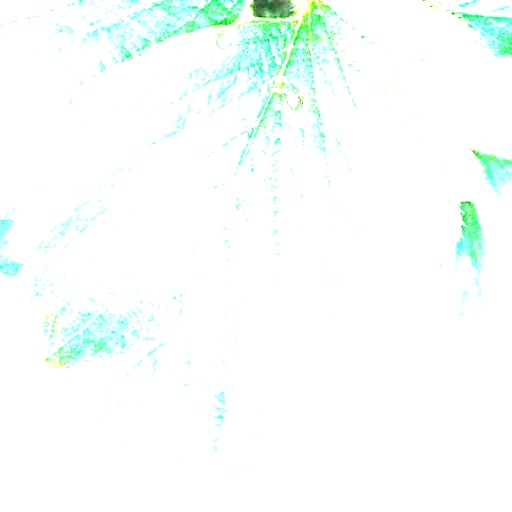Leaf Spot: (9, 0, 497, 501), (366, 382, 511, 511)
